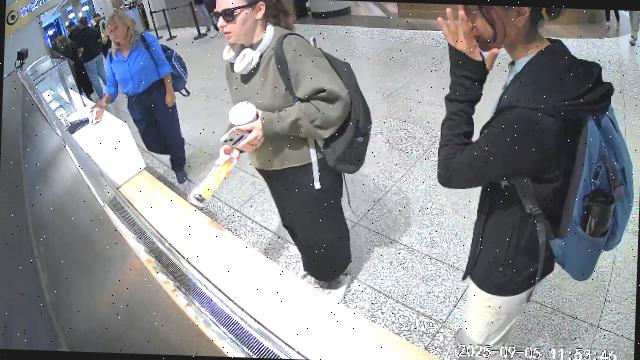sushi-box: (190, 155, 237, 206)
